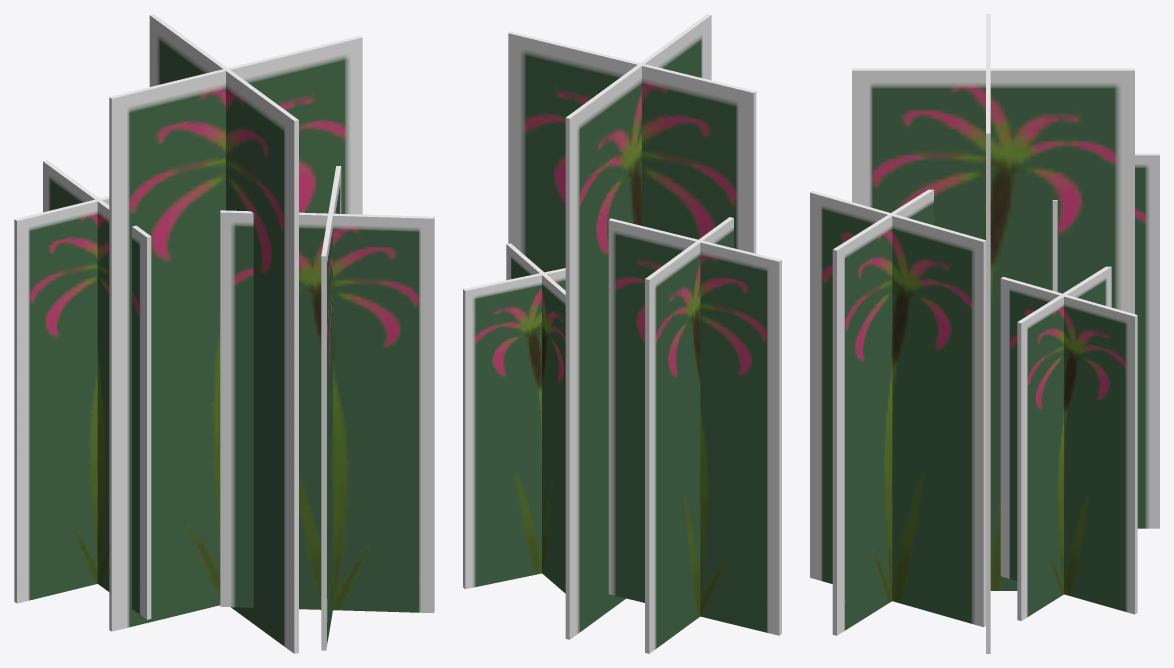
Rendered from Flowers2.fbx.
3 views of the same model, side by side, from view 1: azimuth 30°, elevation 25°; view 2: azimuth 150°, elevation 25°; view 3: azimuth 270°, elevation 25° (orthographic). The views are drawn at different scales.
Visible parts, largest first — view 1: n_grass_diff_0_47.007; view 2: n_grass_diff_0_47.007; view 3: n_grass_diff_0_47.007.
Boxes of the visible parts, left/top/right/bottom form: n_grass_diff_0_47.007: left=14, top=14, right=434, bottom=653; n_grass_diff_0_47.007: left=463, top=14, right=781, bottom=653; n_grass_diff_0_47.007: left=810, top=14, right=1159, bottom=653.
Size of the model in its own units: 71.24 by 117 by 70.97.
